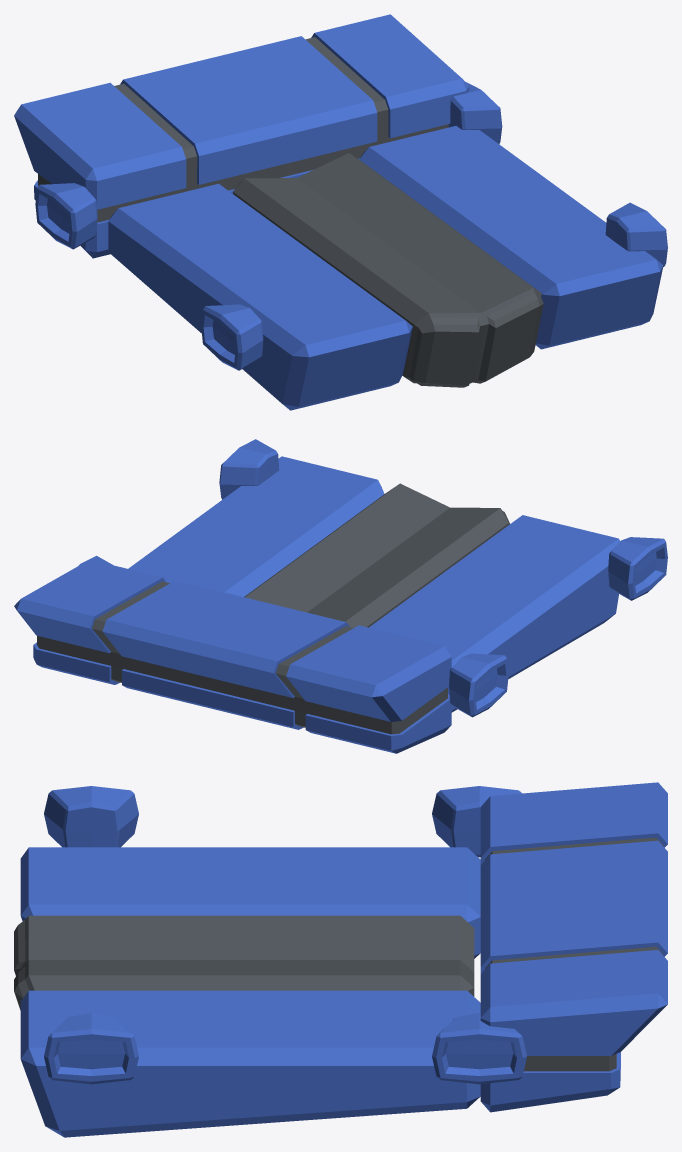
Rendered from Dropship_01_Base_Blue.fbx.
The picture shows the model from 3 angles, top to bottom: view 1: azimuth 30°, elevation 25°; view 2: azimuth 150°, elevation 25°; view 3: azimuth 270°, elevation 25°; orthographic projection. The views are drawn at different scales.
Visible parts, largest first — view 1: Dropship_01_Base_Blue; view 2: Dropship_01_Base_Blue; view 3: Dropship_01_Base_Blue.
Part boxes in pixels (x1,y1,x2,y2): Dropship_01_Base_Blue: (14, 14, 667, 410); Dropship_01_Base_Blue: (14, 439, 667, 753); Dropship_01_Base_Blue: (14, 782, 667, 1137).
Bounding box in the file's own units: 925 × 292 × 1041.
Materials: 1 (1 with a texture image).
